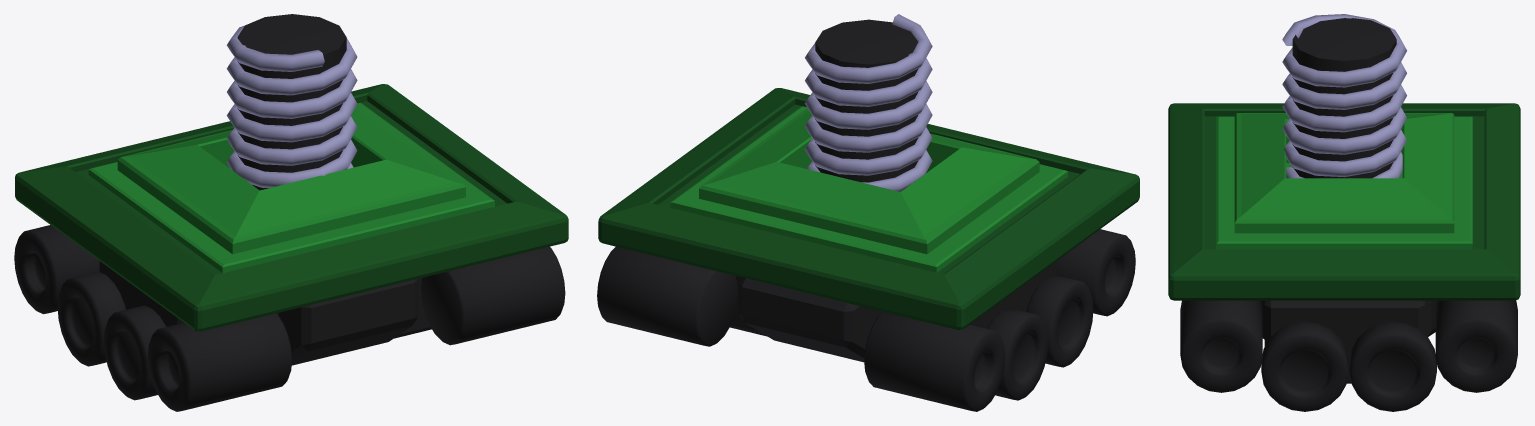
The model's file is Treader_TankTreadHolder.fbx.
The picture shows the model from 3 angles, left to right: view 1: azimuth 30°, elevation 25°; view 2: azimuth 150°, elevation 25°; view 3: azimuth 270°, elevation 25°; orthographic projection. The views are drawn at different scales.
Parts seen in each view (by area): view 1: Treader_TankTreadHolder; view 2: Treader_TankTreadHolder; view 3: Treader_TankTreadHolder.
Boxes of the visible parts, box(x1,y1,x2,y2) form: Treader_TankTreadHolder: box(14, 14, 568, 411); Treader_TankTreadHolder: box(597, 14, 1139, 411); Treader_TankTreadHolder: box(1168, 14, 1520, 411).
Size of the model in its own units: 0.7175 by 0.5566 by 0.6074.
